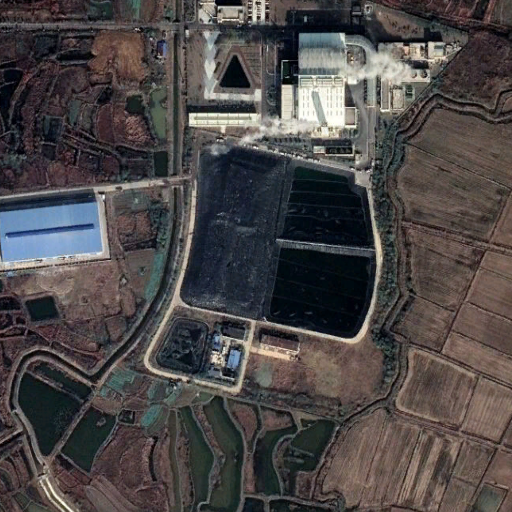lf: (179, 139, 382, 343)
